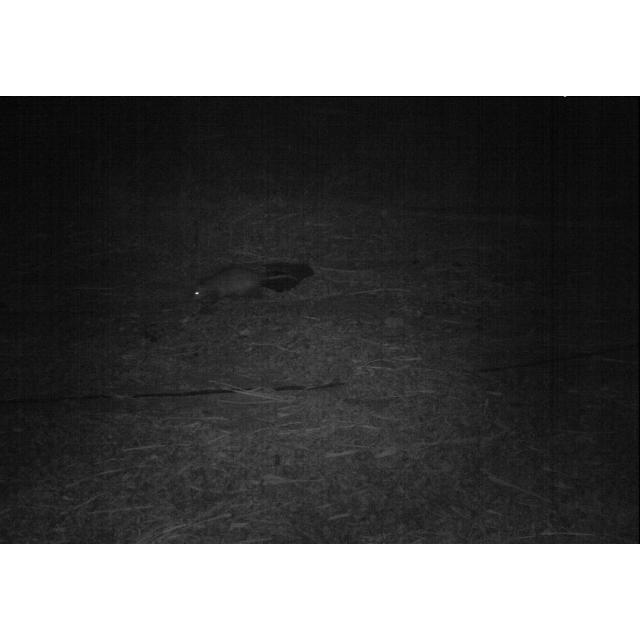animals: (188, 266, 298, 306)
